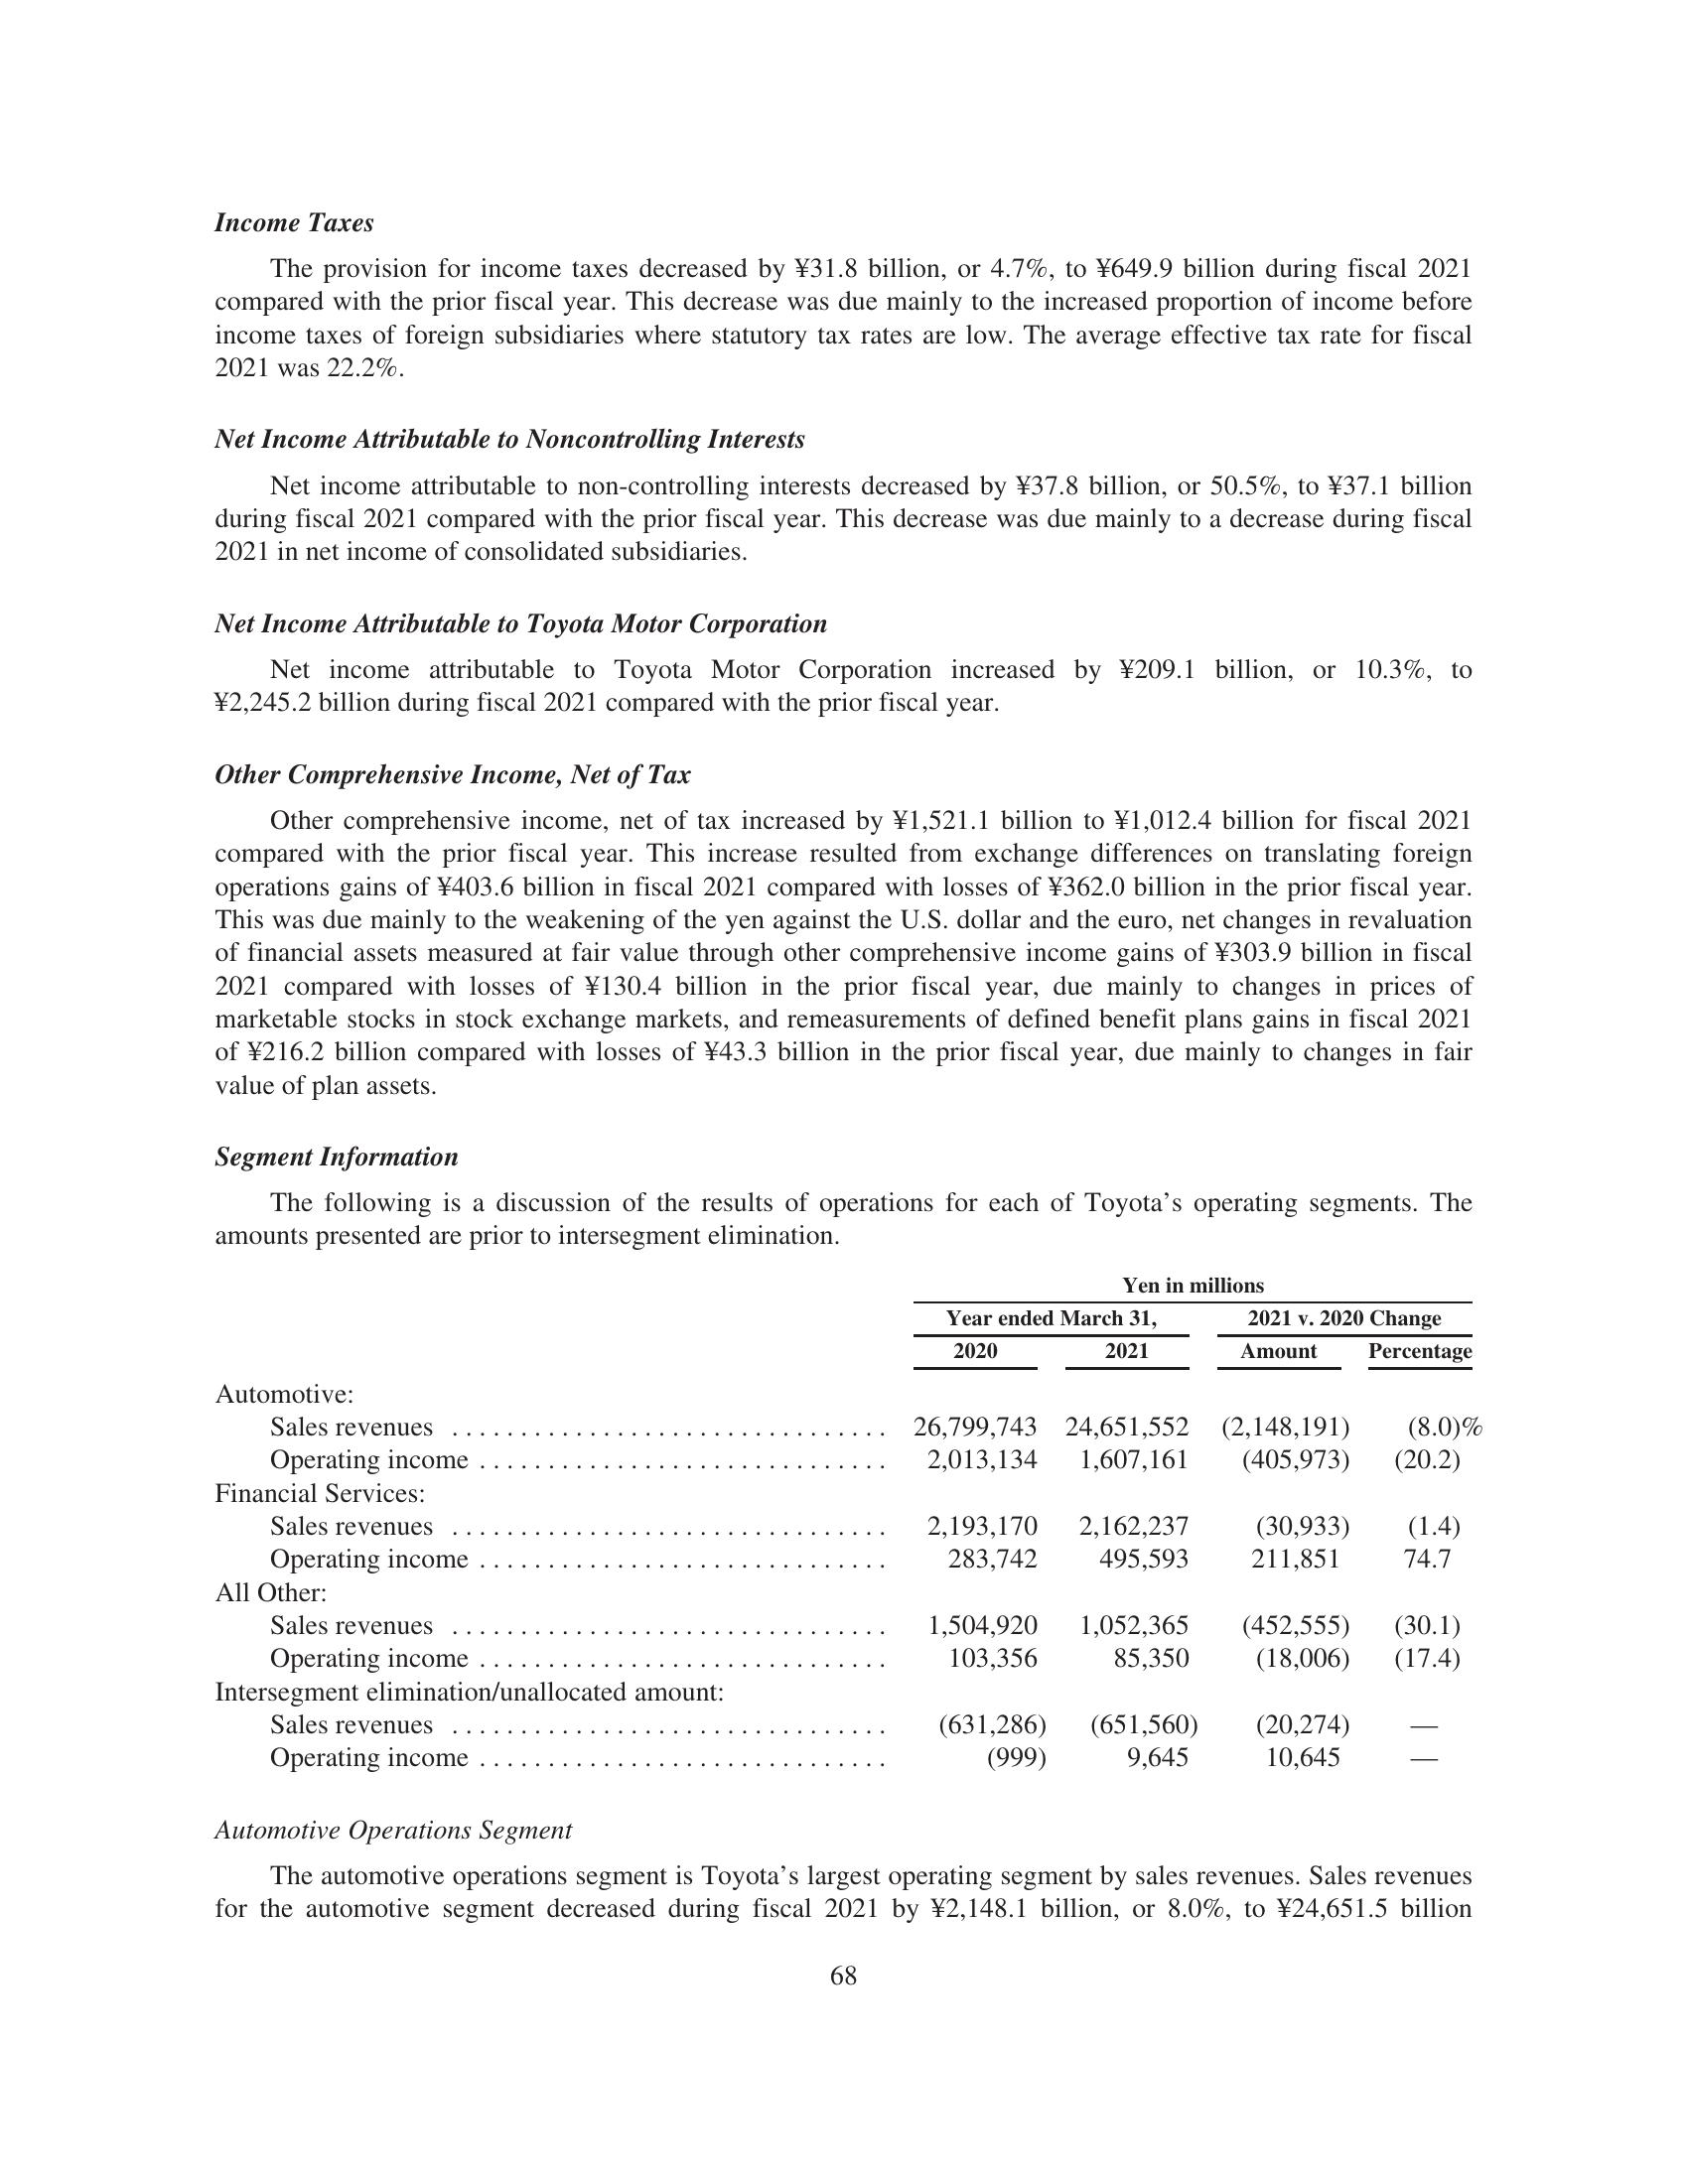Footer: (0, 1950, 1688, 2184)
Header: (0, 0, 1688, 191)
Table: (176, 1278, 1571, 1780)
